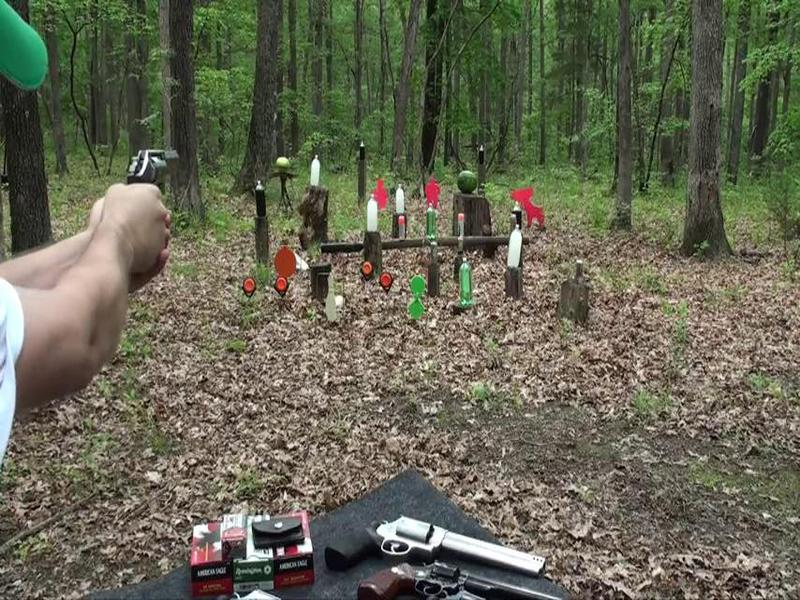Revolver: (123, 130, 182, 207)
